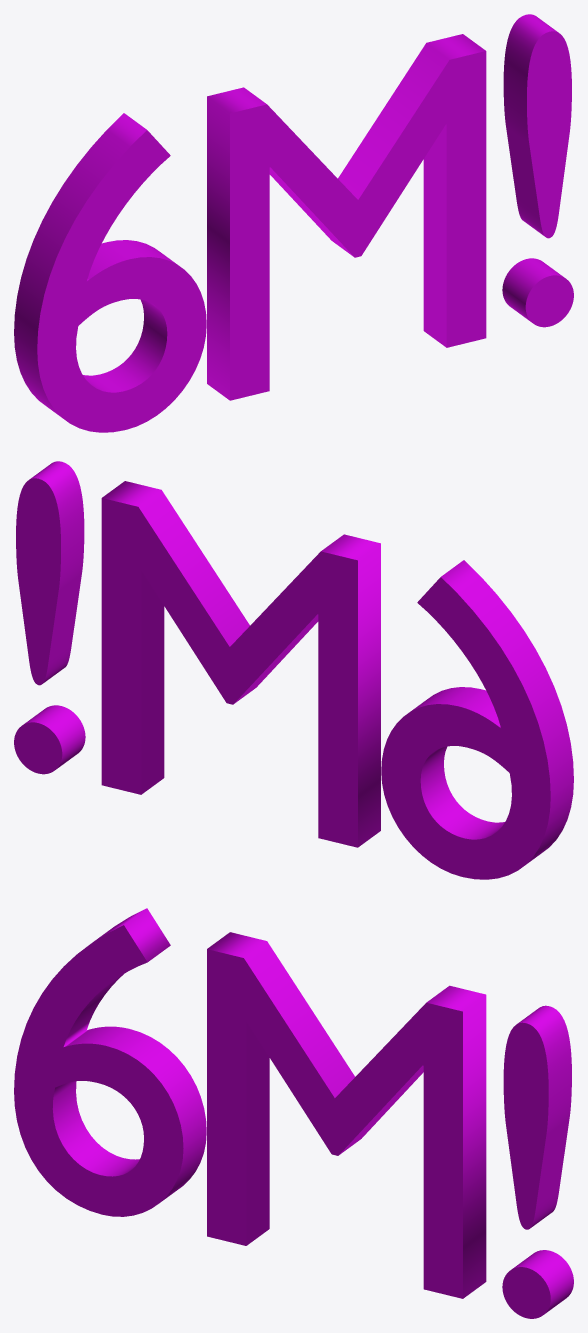
Rendered from 6mpet.fbx.
3 views of the same model, one above another, from view 1: azimuth 30°, elevation 25°; view 2: azimuth 150°, elevation 25°; view 3: azimuth 330°, elevation 25° (orthographic).
Visible parts, largest first — view 1: Text; view 2: Text; view 3: Text.
Boxes of the visible parts, bbox=[...] form: Text: bbox=[14, 14, 573, 432]; Text: bbox=[14, 461, 573, 879]; Text: bbox=[14, 908, 573, 1318].
Bounding box in the file's own units: 1.33 × 0.7 × 0.1.
